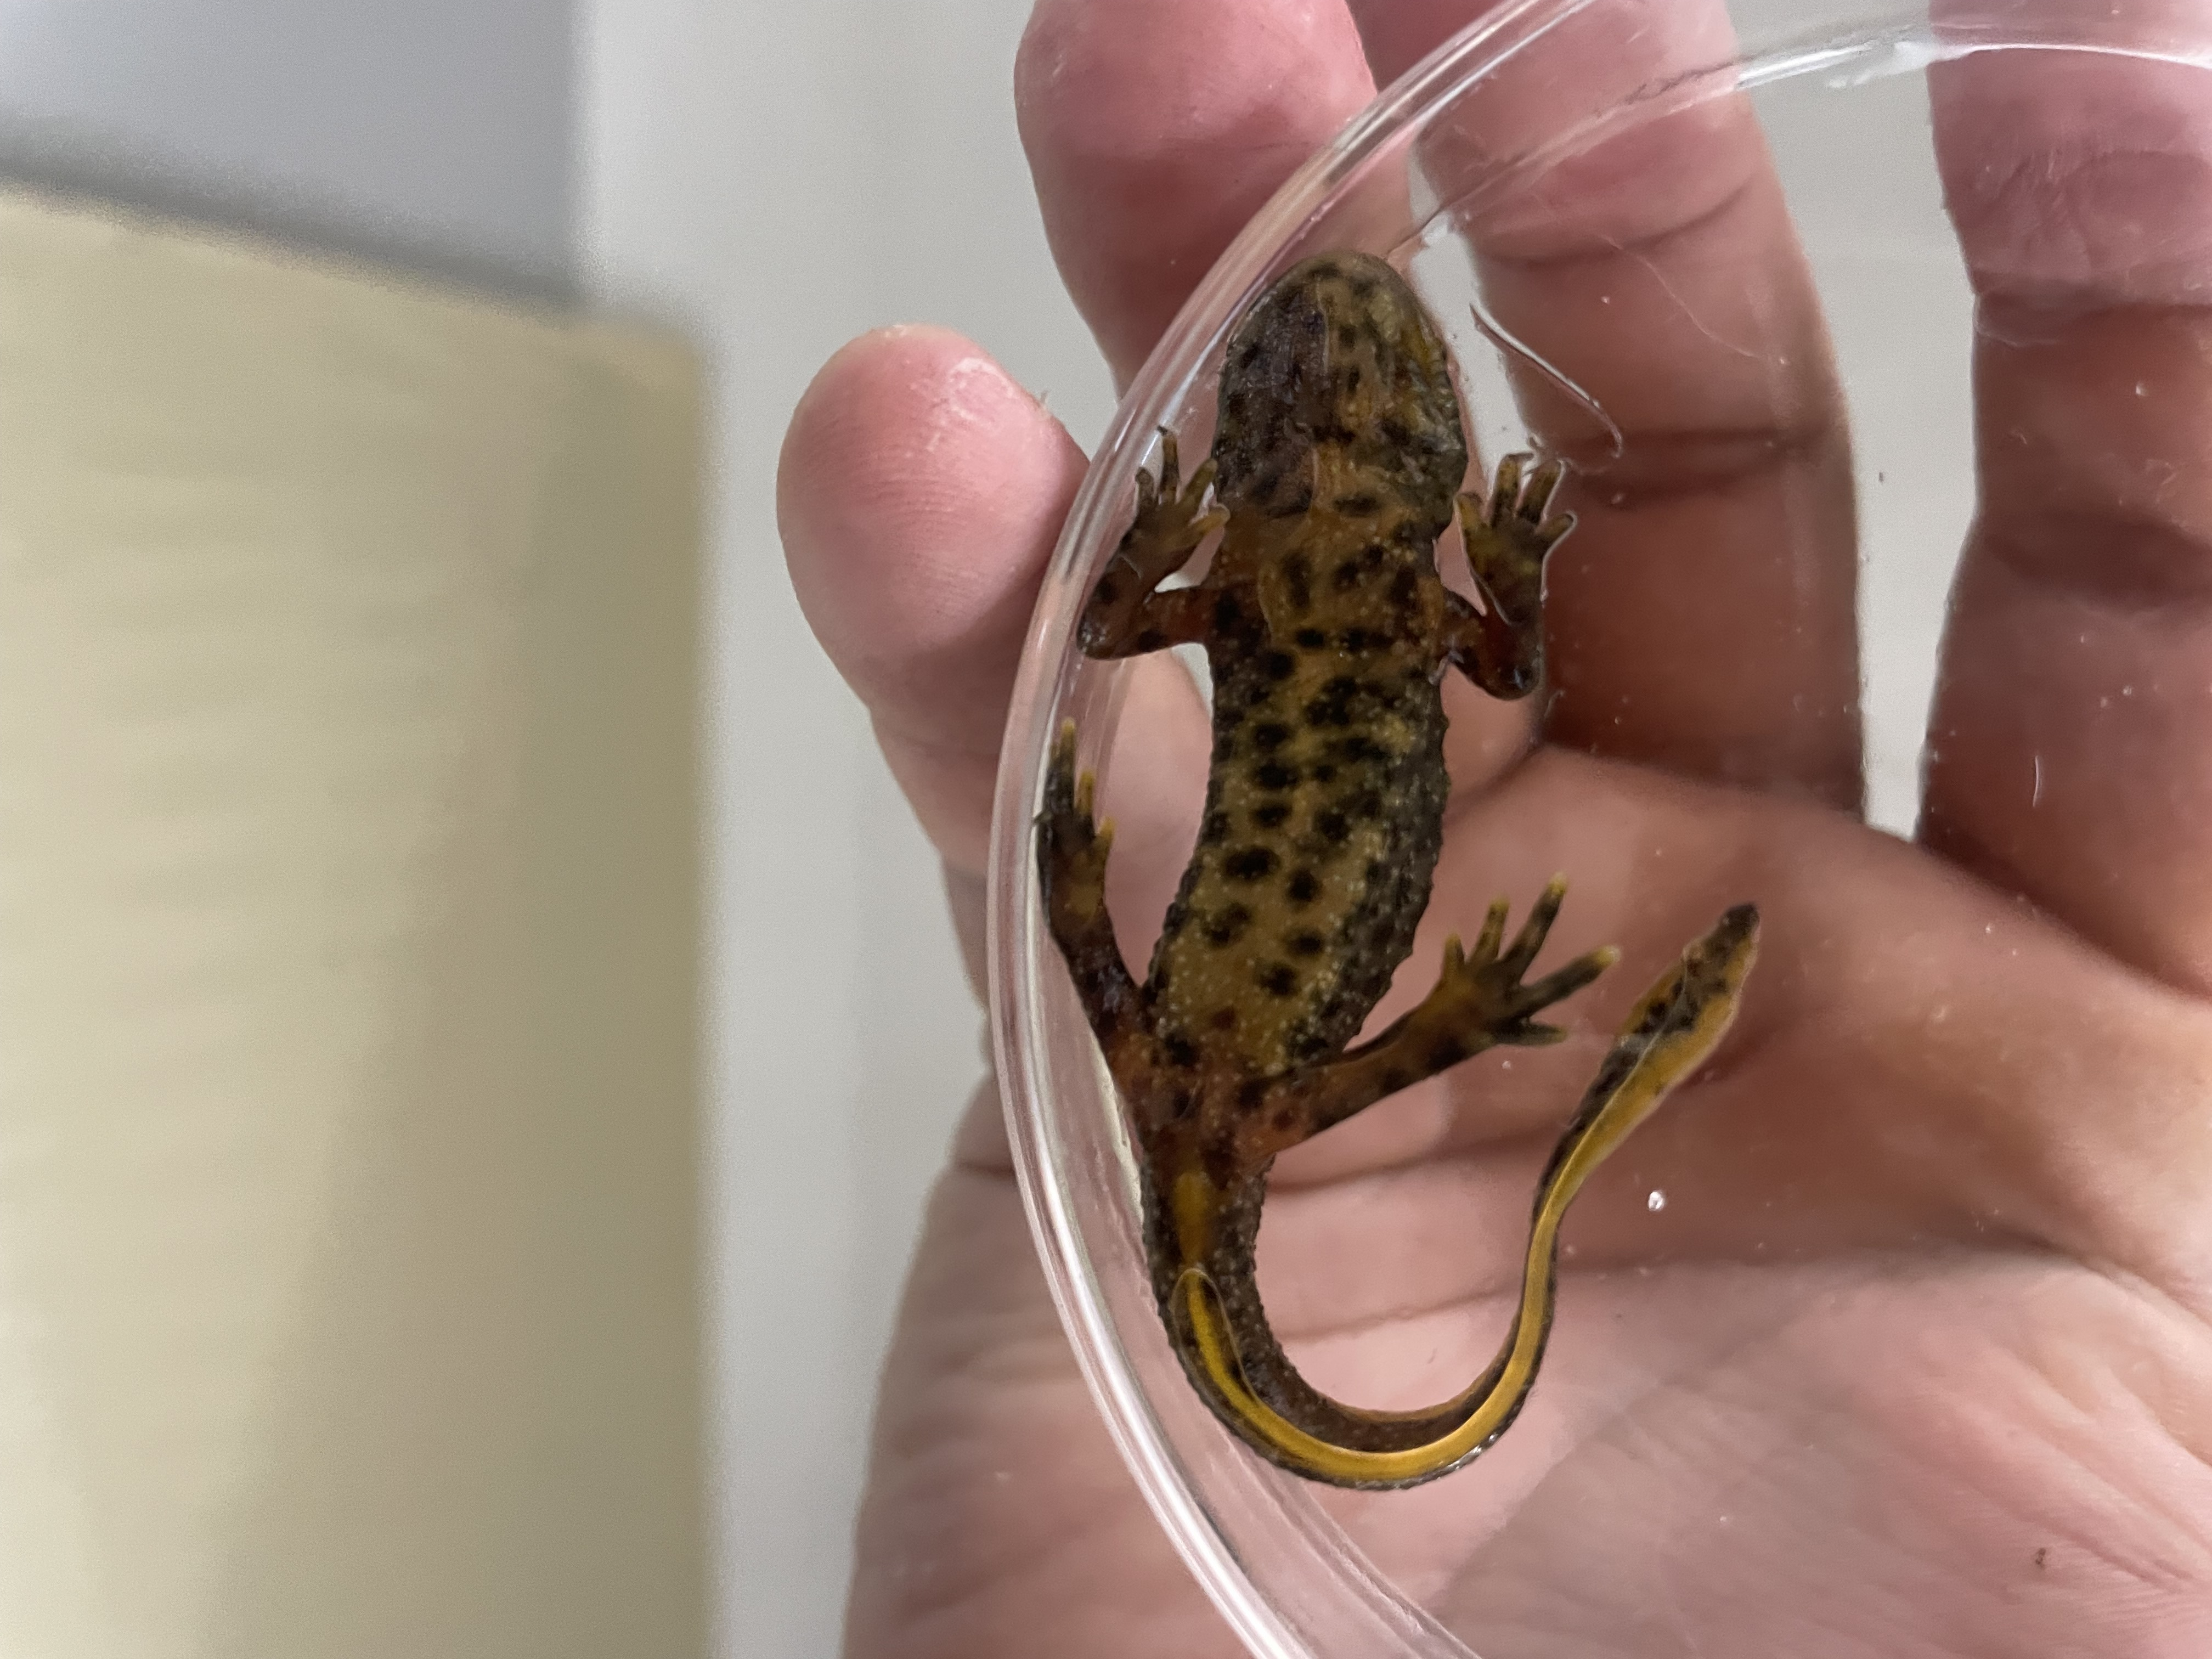newt_ribbed: (1141, 640, 1453, 1065)
